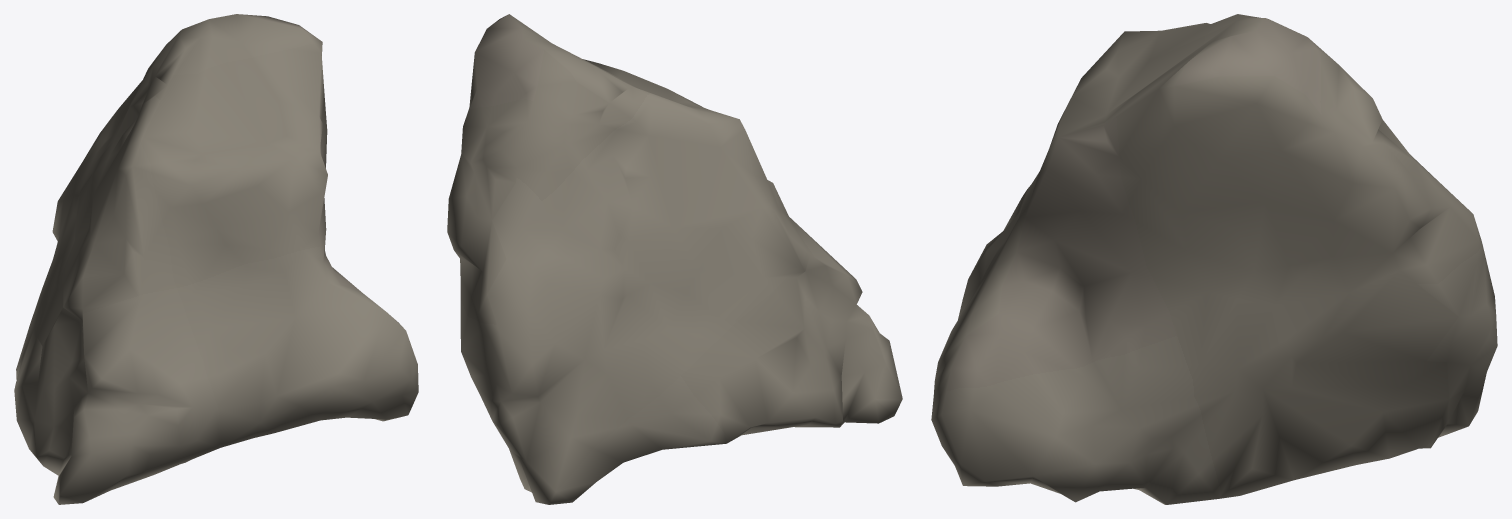
Rendered from ph_moonrock_5.glb.
3 views of the same model, side by side, from view 1: azimuth 30°, elevation 25°; view 2: azimuth 150°, elevation 25°; view 3: azimuth 270°, elevation 25° (orthographic). The views are drawn at different scales.
Parts seen in each view (by area): view 1: ph_moonrock_5_lod1; view 2: ph_moonrock_5_lod1; view 3: ph_moonrock_5_lod1.
Part boxes in pixels (left/top/right/bottom): ph_moonrock_5_lod1: left=14, top=14, right=418, bottom=504; ph_moonrock_5_lod1: left=447, top=14, right=902, bottom=504; ph_moonrock_5_lod1: left=931, top=14, right=1497, bottom=504.
Bounding box in the file's own units: 0.0717 × 0.0734 × 0.0812.
1 material, 1 textured.
